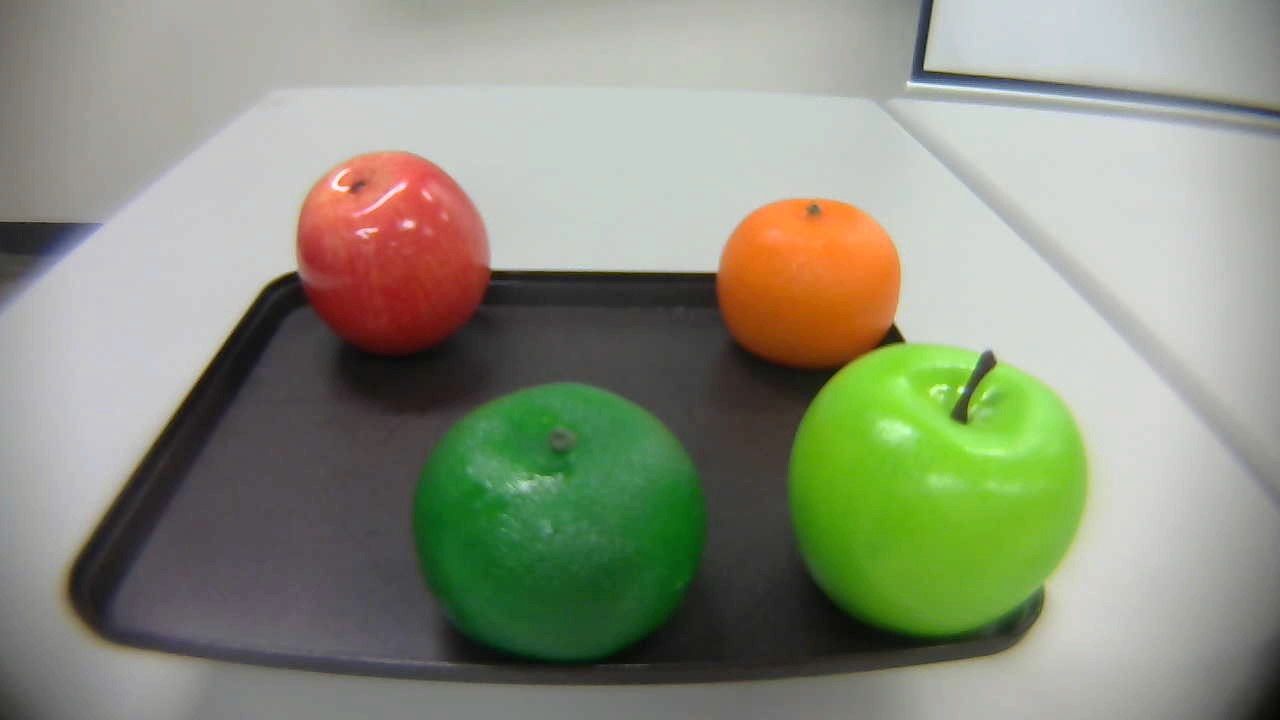green apple: (776, 334, 1092, 650)
green orange: (397, 379, 708, 666)
orange: (717, 198, 899, 380)
red apple: (294, 143, 497, 368)
